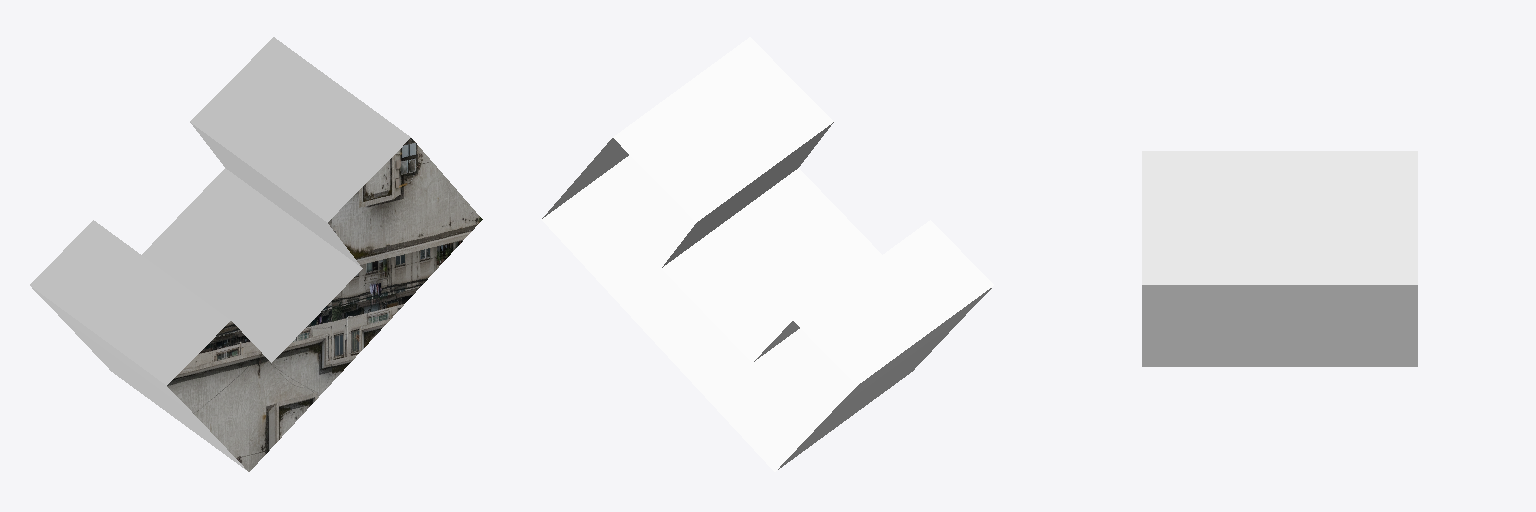
3 views of the same model, side by side, from view 1: azimuth 30°, elevation 25°; view 2: azimuth 150°, elevation 25°; view 3: azimuth 270°, elevation 25° (orthographic).
Parts seen in each view (by area): view 1: Building; view 2: Building; view 3: Building.
Part boxes in pixels (bbox=[...]): Building: bbox=[30, 37, 482, 471]; Building: bbox=[541, 37, 993, 471]; Building: bbox=[1142, 151, 1417, 366].
Bounding box in the file's own units: 11.93 × 10.66 × 9.
Materials: 2 (1 with a texture image).